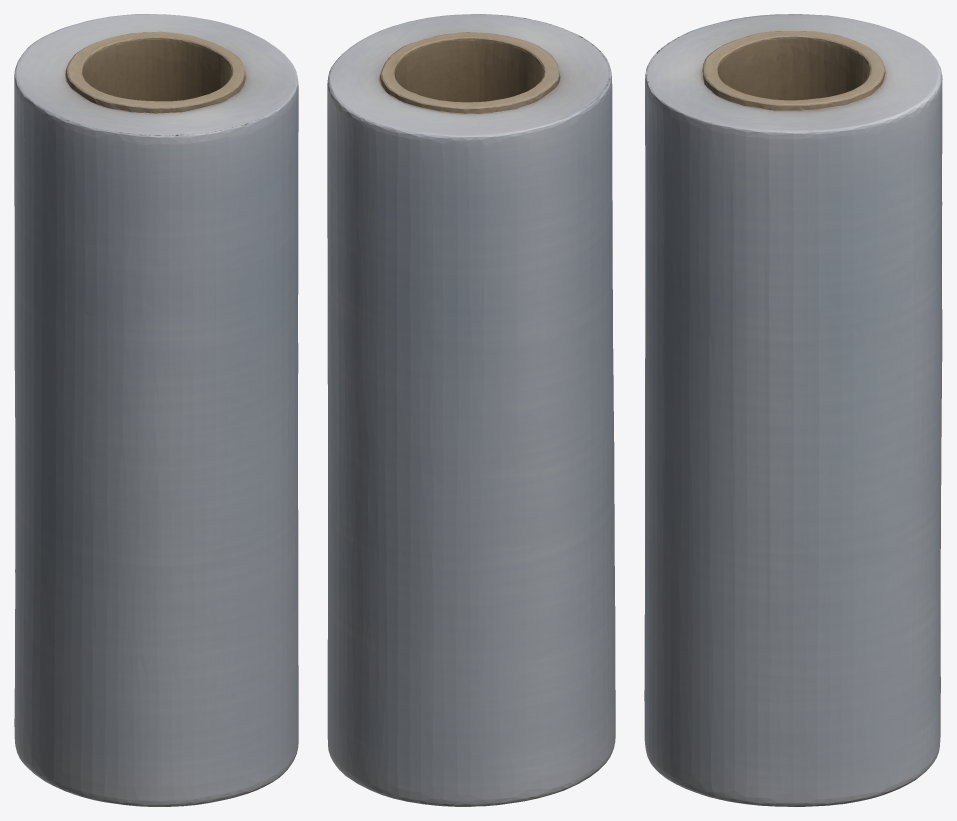
The model's file is filmroll.glb.
3 renders of one model, left to right at view 1: azimuth 30°, elevation 25°; view 2: azimuth 150°, elevation 25°; view 3: azimuth 270°, elevation 25°, orthographic.
Visible parts, largest first — view 1: geometry_0; view 2: geometry_0; view 3: geometry_0.
Part boxes in pixels (x1=…): geometry_0: x1=14, y1=14, x2=298, y2=806; geometry_0: x1=327, y1=14, x2=615, y2=806; geometry_0: x1=644, y1=14, x2=942, y2=806.
Bounding box in the file's own units: 0.3755 × 0.9998 × 0.3956.
1 material, 1 textured.
